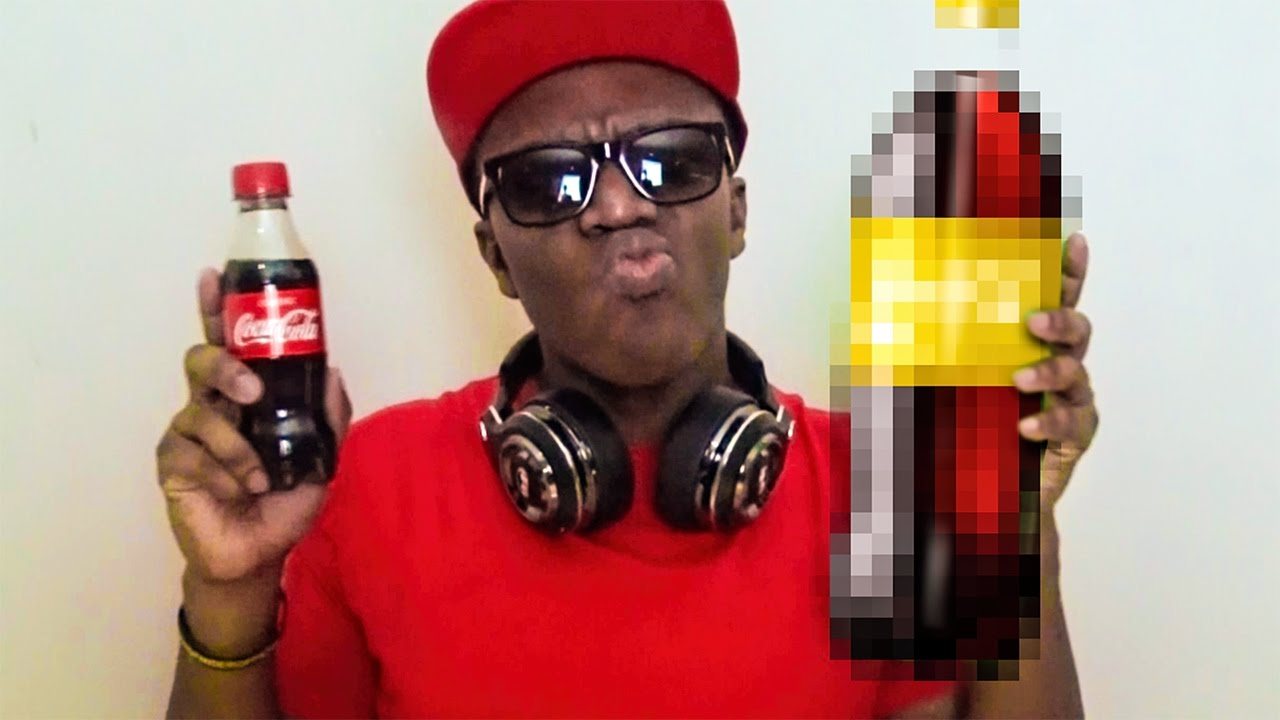coke: (211, 160, 338, 491)
